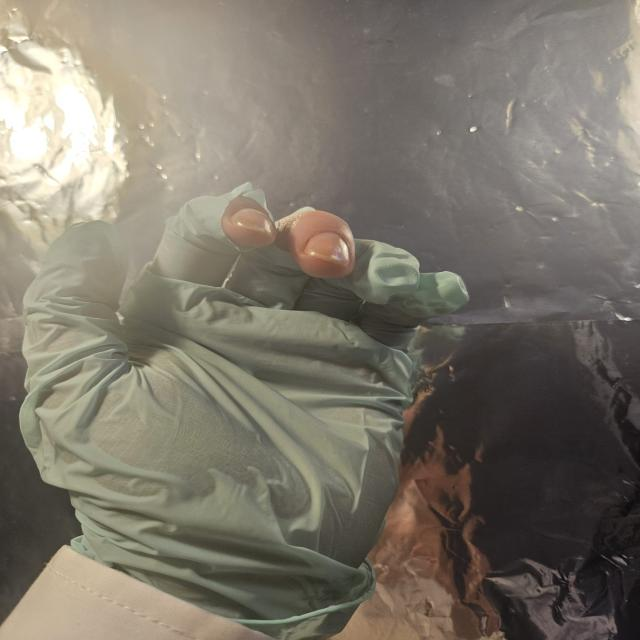gloves_damaged: (18, 179, 475, 640)
